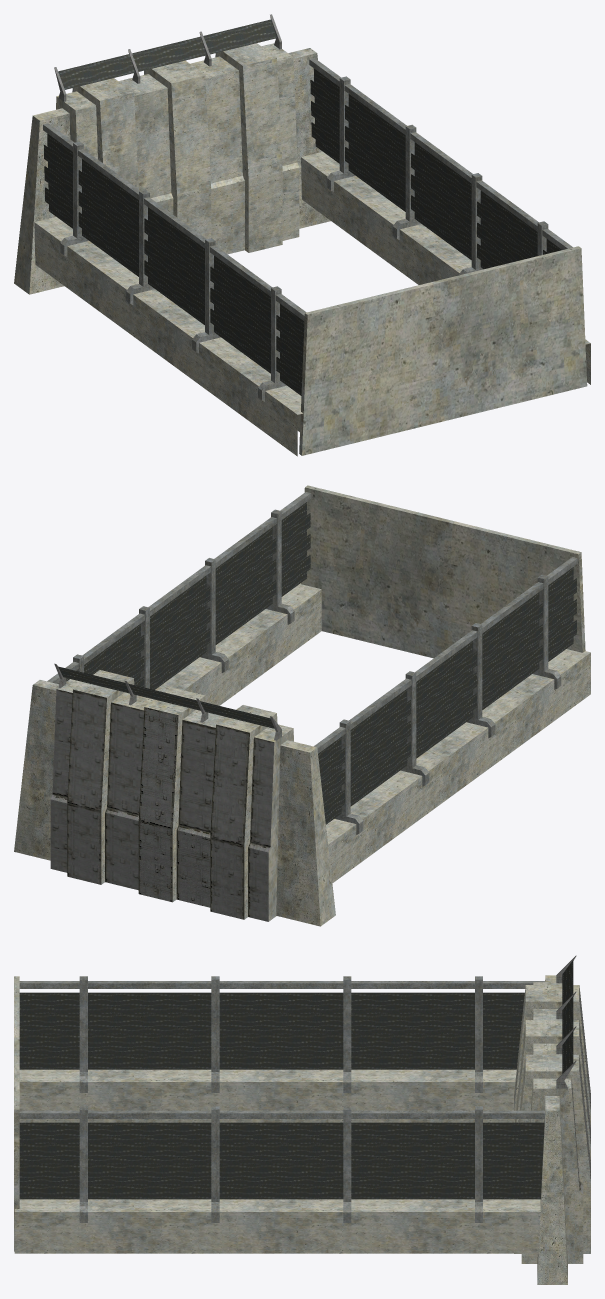
The model's file is poi_all_corral_pen_8x16_s01_l0.fbx.
The picture shows the model from 3 angles, top to bottom: view 1: azimuth 30°, elevation 25°; view 2: azimuth 150°, elevation 25°; view 3: azimuth 270°, elevation 25°; orthographic projection.
Visible parts, largest first — view 1: mesh_node; view 2: mesh_node; view 3: mesh_node.
Boxes of the visible parts, x1,y1,x2,y2 form: mesh_node: (14,14,590,456); mesh_node: (14,485,590,926); mesh_node: (14,955,590,1284).
Bounding box in the file's own units: 11.5 × 7.27 × 18.77.
